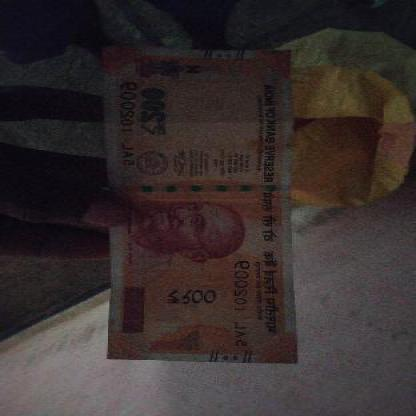New200Front: (106, 47, 294, 365)
